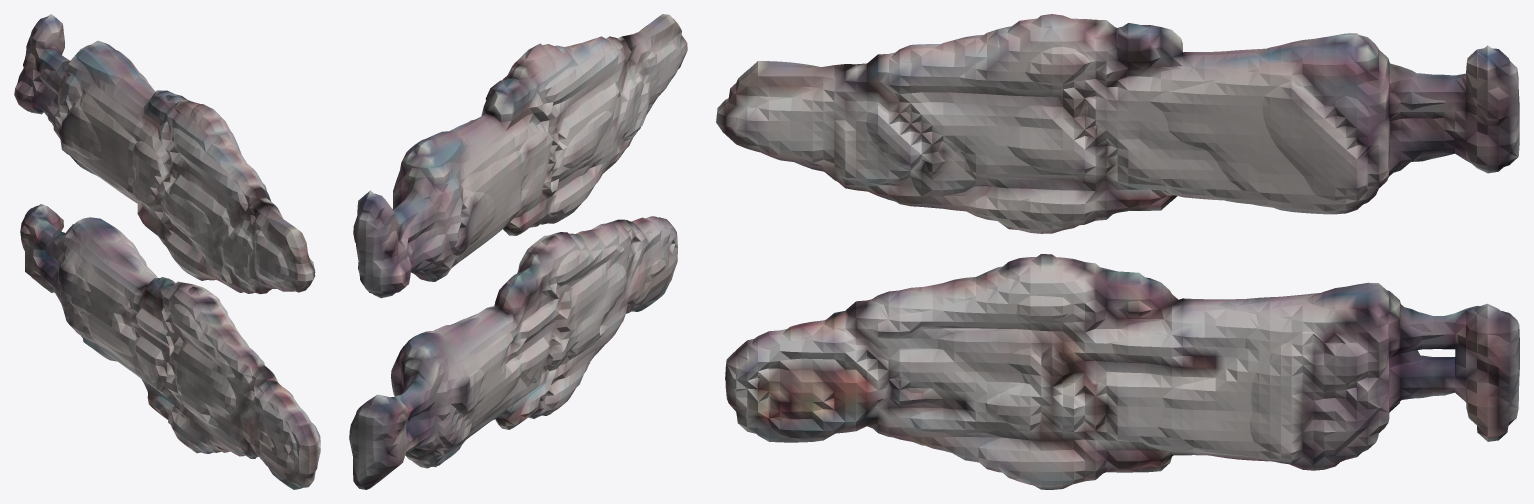
The model's file is medieval_commoner_f_0.glb.
3 renders of one model, left to right at view 1: azimuth 30°, elevation 25°; view 2: azimuth 150°, elevation 25°; view 3: azimuth 270°, elevation 25°, orthographic. The views are drawn at different scales.
Visible parts, largest first — view 1: world; view 2: world; view 3: world.
Part boxes in pixels (x1,y1,x2,y2): world: (14,14,320,489); world: (349,14,687,489); world: (716,14,1519,489).
Size of the model in its own units: 0.1352 by 0.6658 by 1.01.
